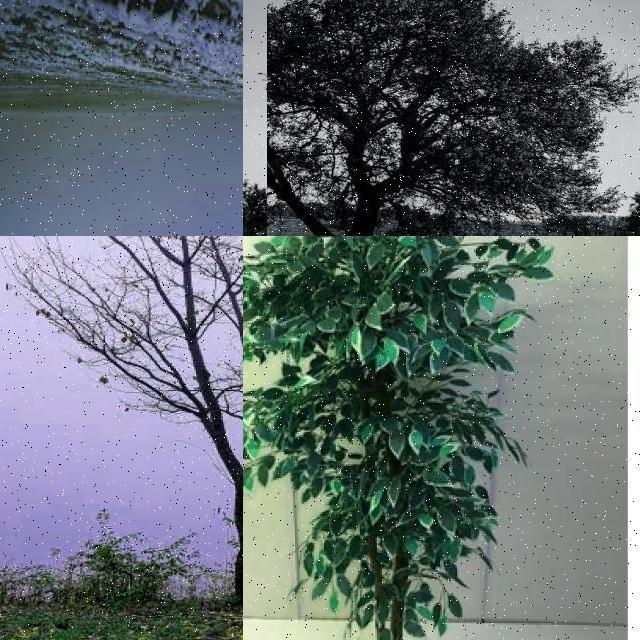tree: (243, 236, 539, 640), (0, 236, 244, 600), (267, 0, 640, 236)
